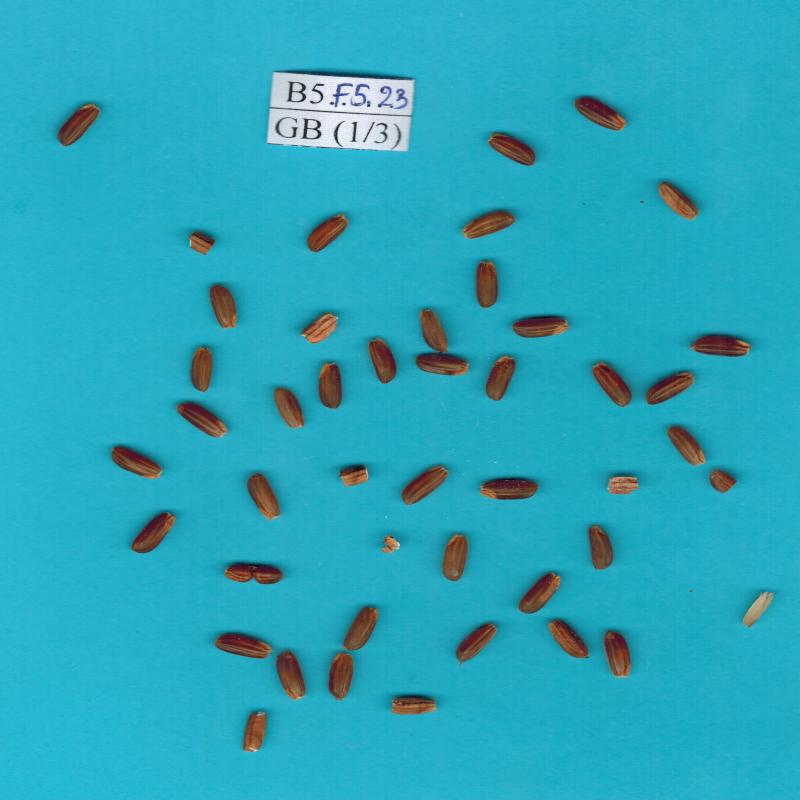Break: (658, 182, 700, 220), (300, 312, 338, 344), (242, 712, 266, 752), (391, 697, 437, 715), (189, 231, 215, 256), (710, 470, 737, 494), (339, 465, 368, 487), (609, 477, 639, 494)
Inferior: (225, 565, 284, 584)
Rice: (58, 104, 100, 147), (131, 512, 175, 553), (402, 466, 448, 505), (177, 403, 228, 438), (575, 97, 627, 131), (592, 362, 632, 406), (518, 573, 561, 613), (112, 446, 162, 479), (456, 623, 497, 662), (307, 214, 349, 252), (247, 473, 280, 521), (343, 606, 378, 651), (646, 373, 695, 405), (549, 619, 589, 658), (462, 211, 516, 239), (488, 134, 535, 166), (276, 650, 306, 700), (668, 427, 706, 466), (215, 634, 272, 659), (486, 356, 516, 401), (604, 630, 631, 678), (369, 338, 396, 384), (692, 336, 751, 357), (274, 388, 304, 429), (479, 480, 539, 500), (210, 285, 237, 329), (420, 310, 448, 352), (329, 652, 354, 699), (443, 534, 468, 581), (588, 525, 614, 570), (511, 318, 569, 338), (416, 355, 469, 375), (319, 363, 342, 409), (476, 261, 498, 308), (191, 346, 213, 392)
